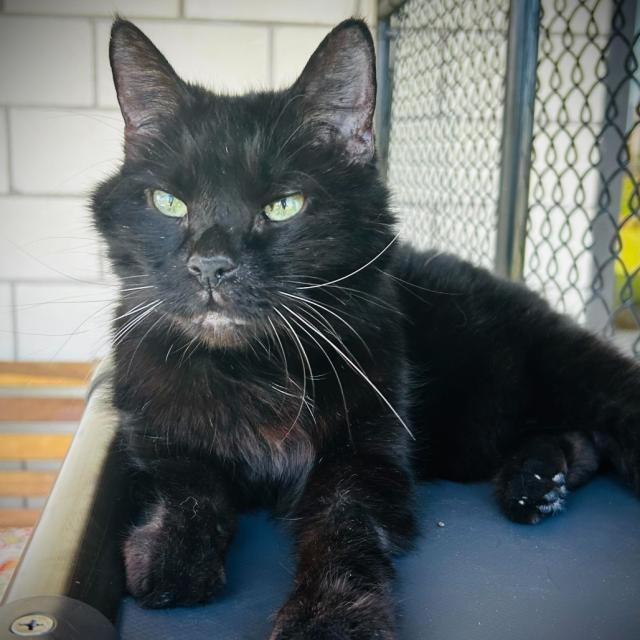manx_cat: (85, 13, 409, 382)
